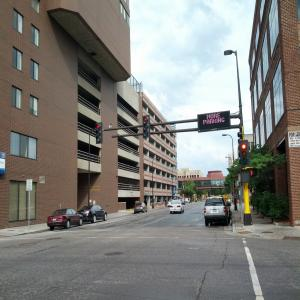Vehicle-registration-plate: (53, 219, 58, 223), (213, 210, 217, 214)
